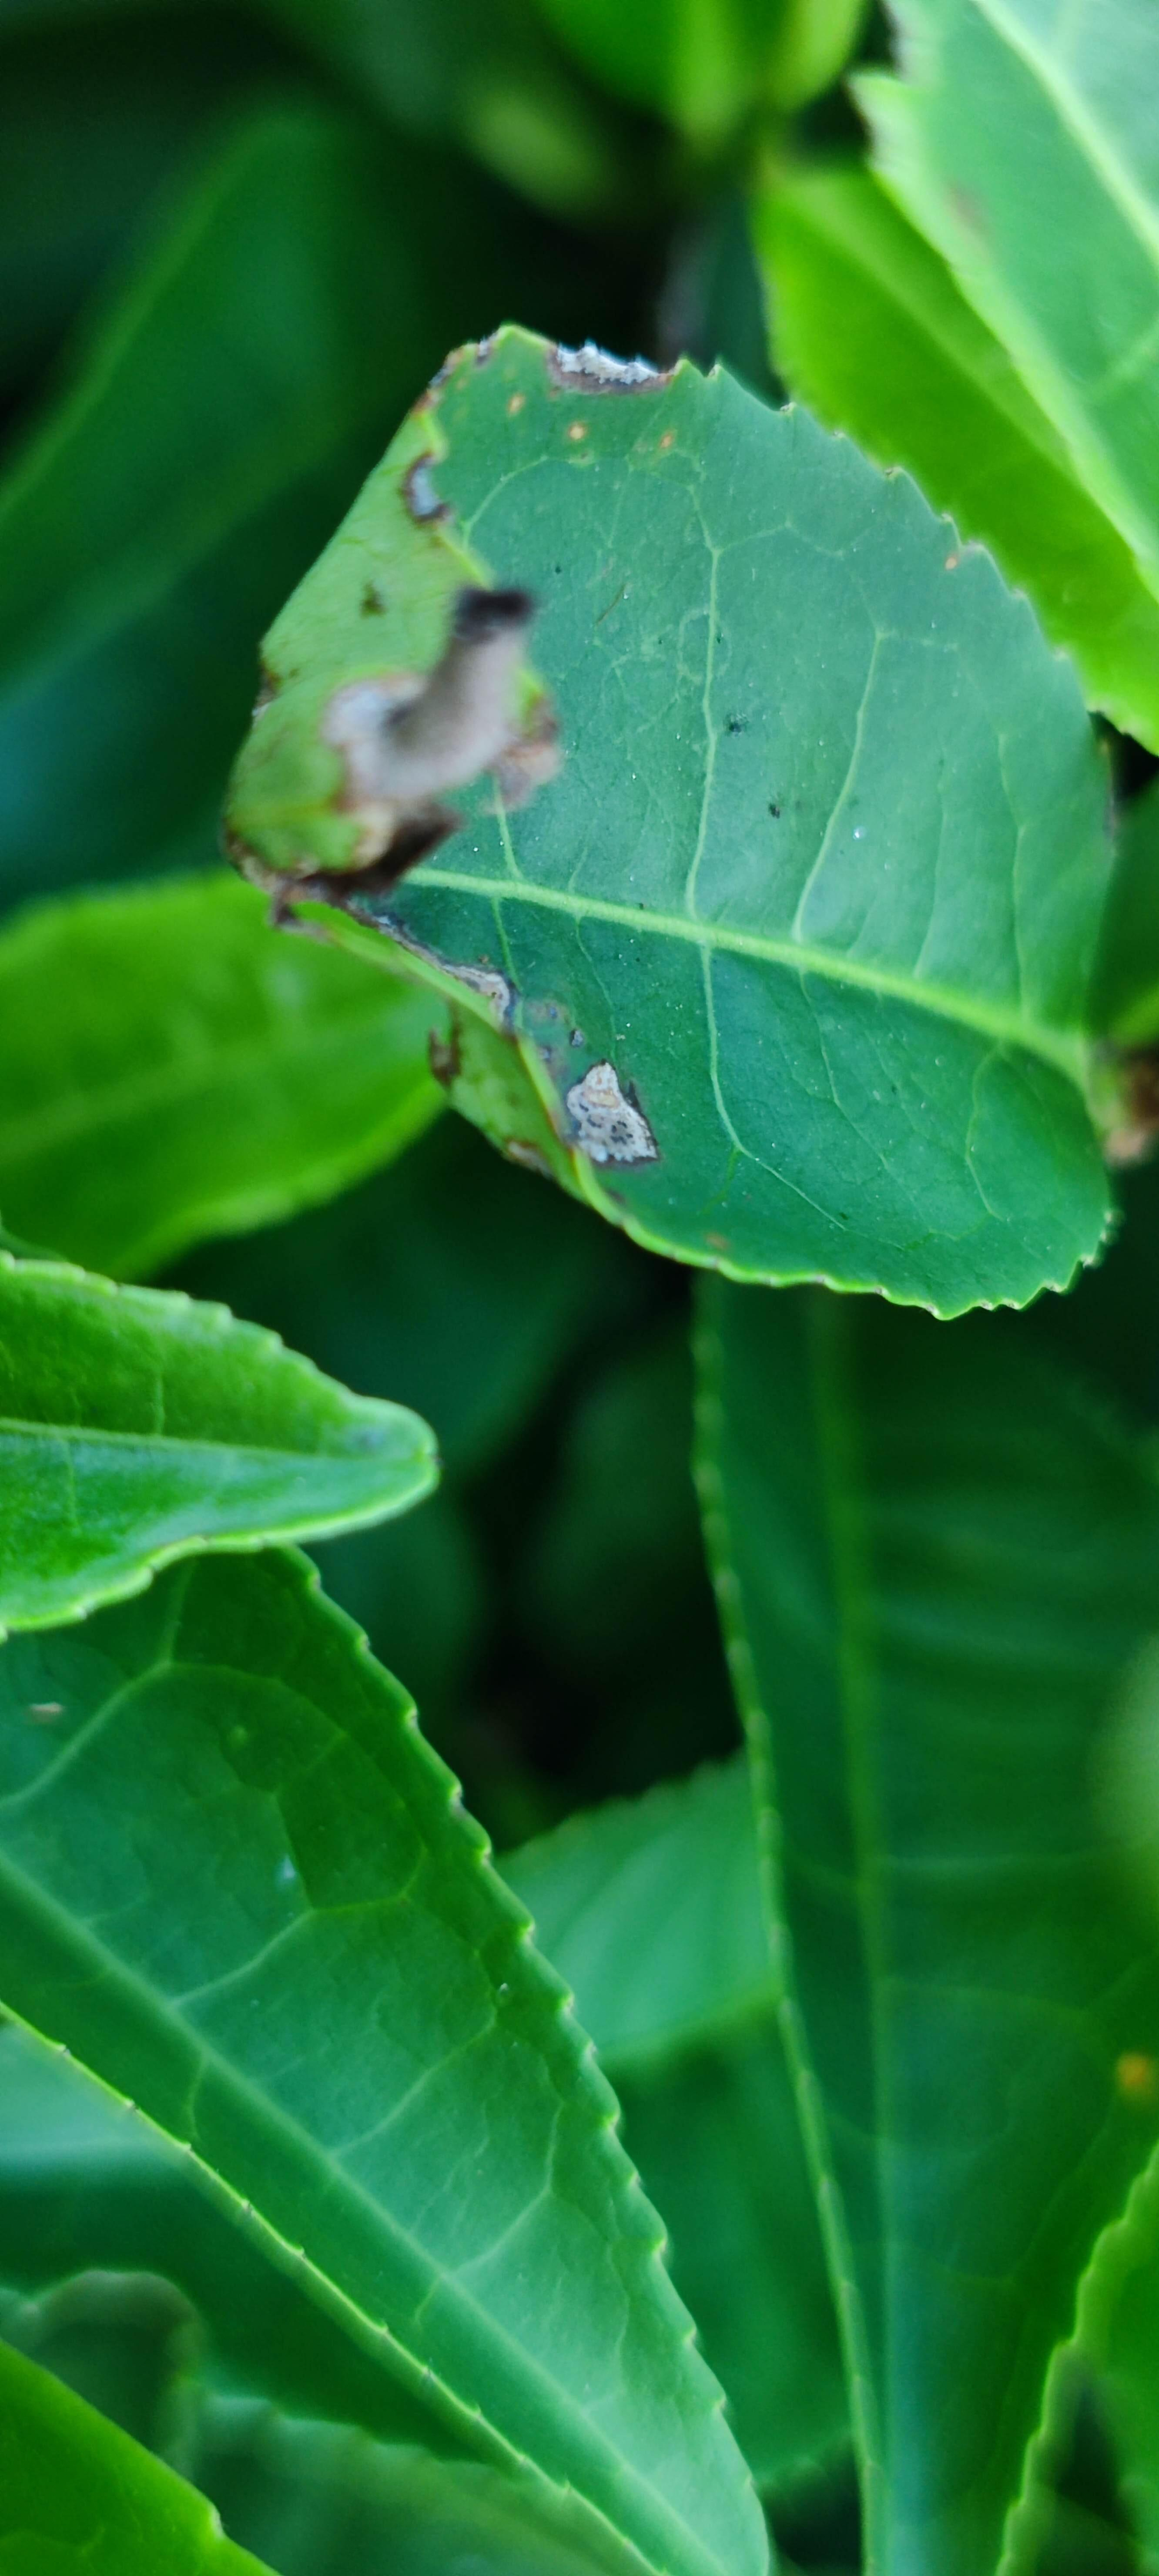healthy: (0, 1546, 781, 2571), (0, 1244, 451, 1641)
tanju_high: (223, 322, 1131, 1322)
